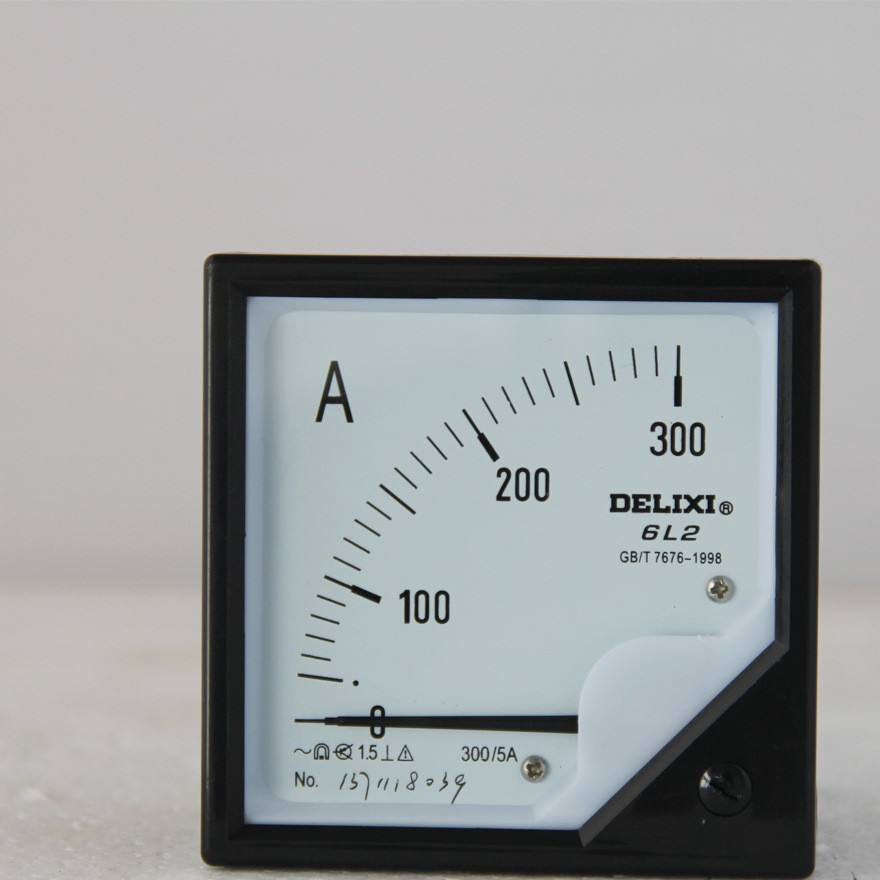pointer: (243, 296, 780, 832)
